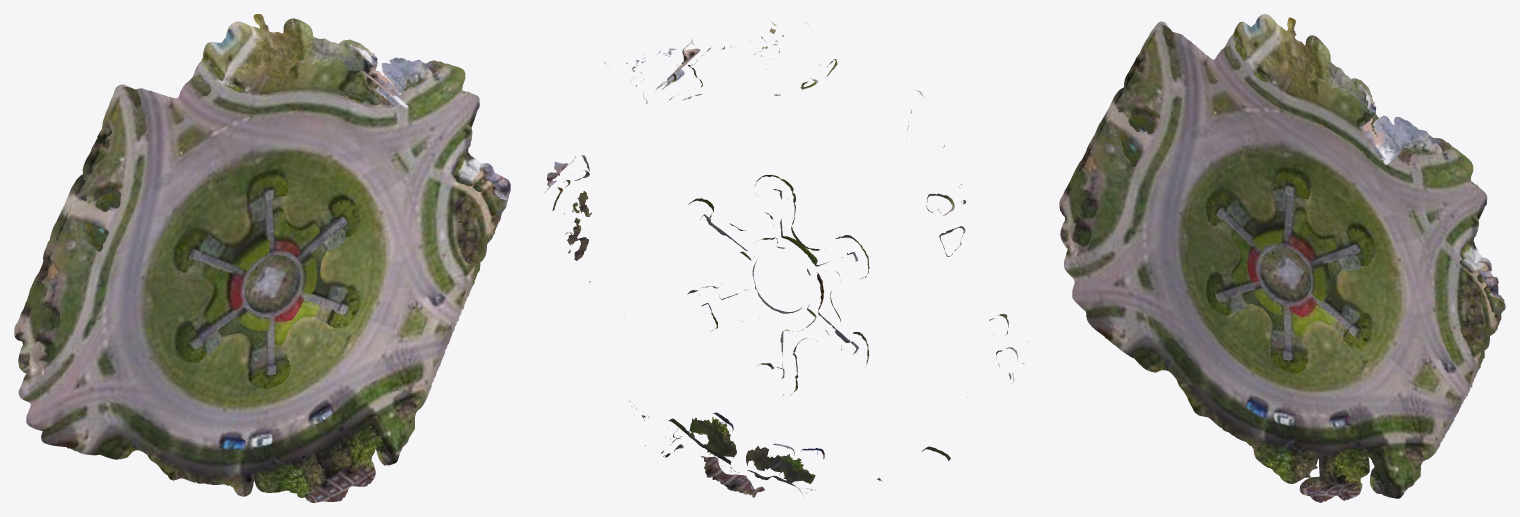
The model's file is site_model.glb.
3 renders of one model, left to right at view 1: azimuth 30°, elevation 25°; view 2: azimuth 150°, elevation 25°; view 3: azimuth 330°, elevation 25°, orthographic. The views are drawn at different scales.
Bounding box in the file's own units: 94.2 × 89.71 × 10.62.
Materials: 27 (27 with a texture image).
